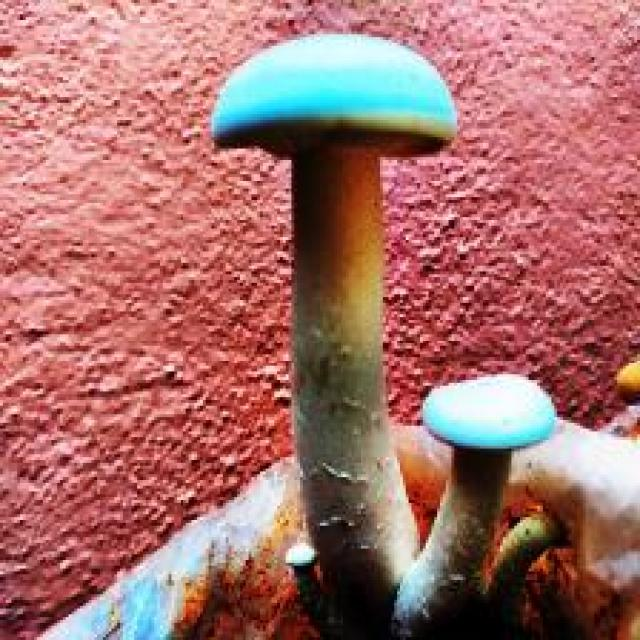field-mushroom: (206, 29, 457, 634)
